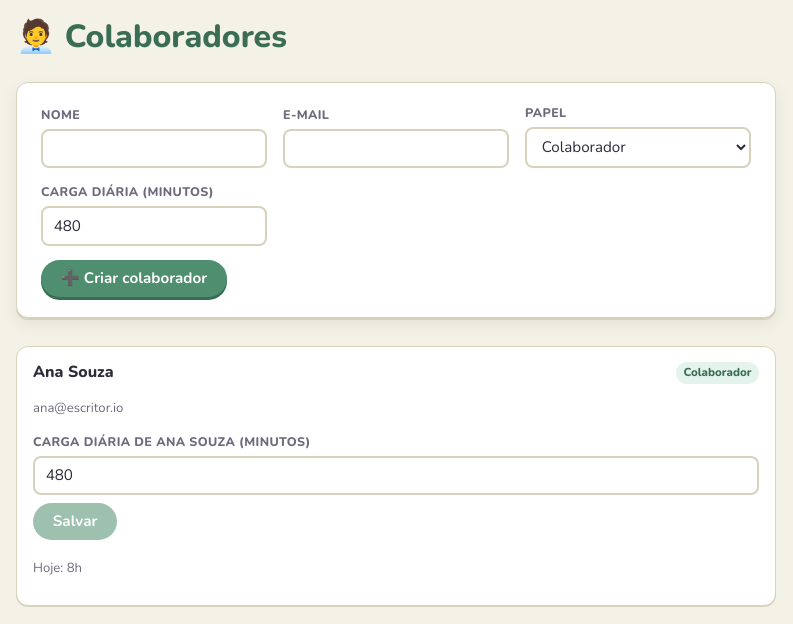
Test case: ColaboradoresPage › o botão Salvar da carga diária fica desabilitado até o valor mudar
Check: the text "Ana Souza" is shown, box top-left (33, 360), bottom-right (114, 385)
Check: the button "Salvar" is disabled, box top-left (33, 503), bottom-right (117, 540)
Replace the text in the number field labelled "Carga diária de Ana Souza (minutos)" with "360" at (396, 475), box top-left (33, 456), bottom-right (759, 495)
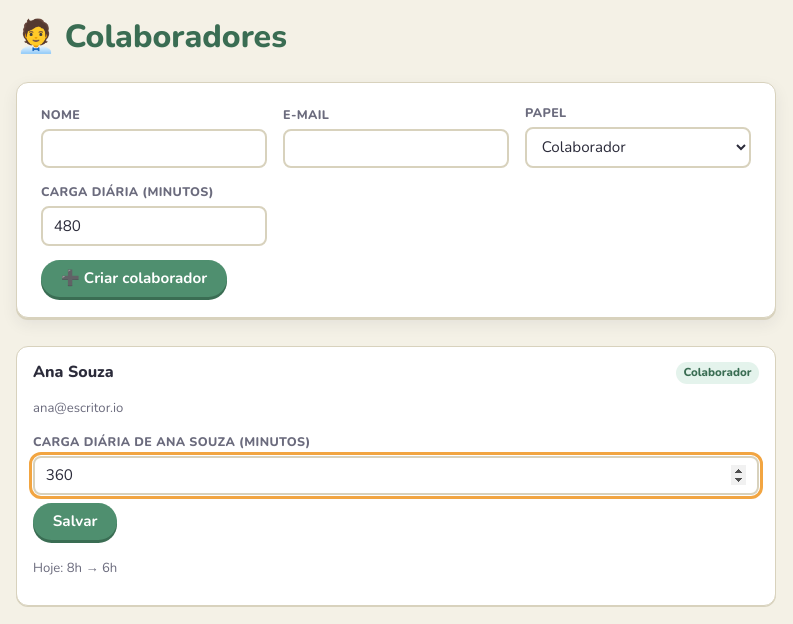
Check: the button "Salvar" is enabled, box top-left (33, 503), bottom-right (117, 540)
